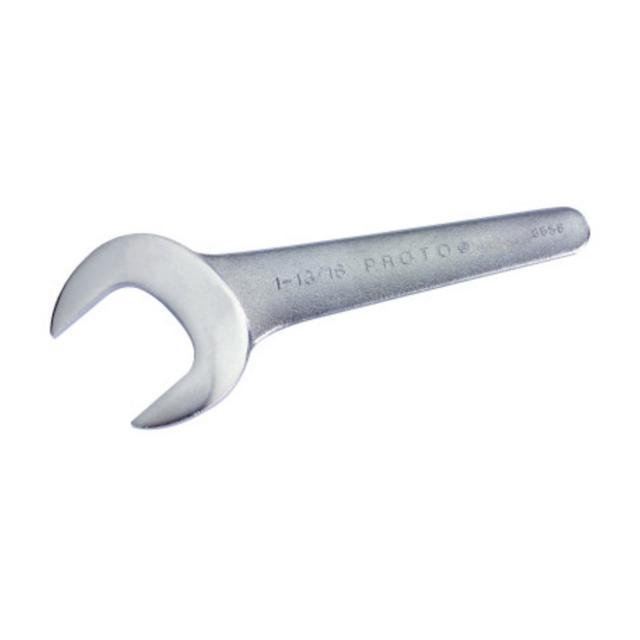wrench: (32, 202, 598, 434)
